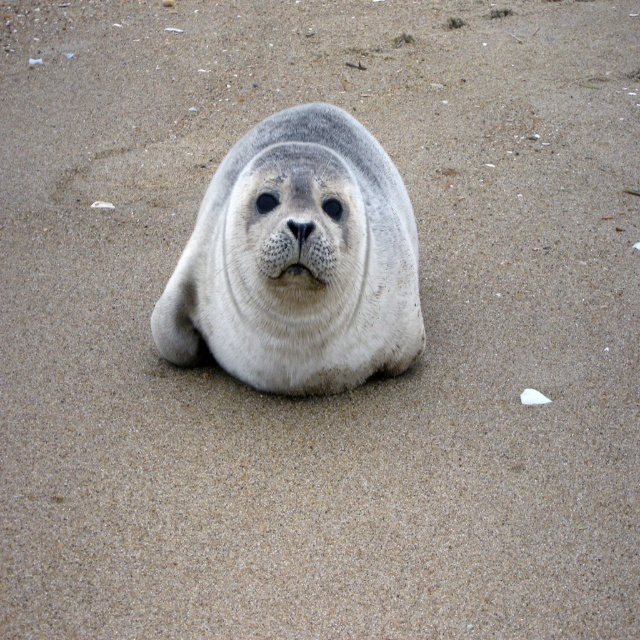Sea lion: (148, 97, 430, 391)
